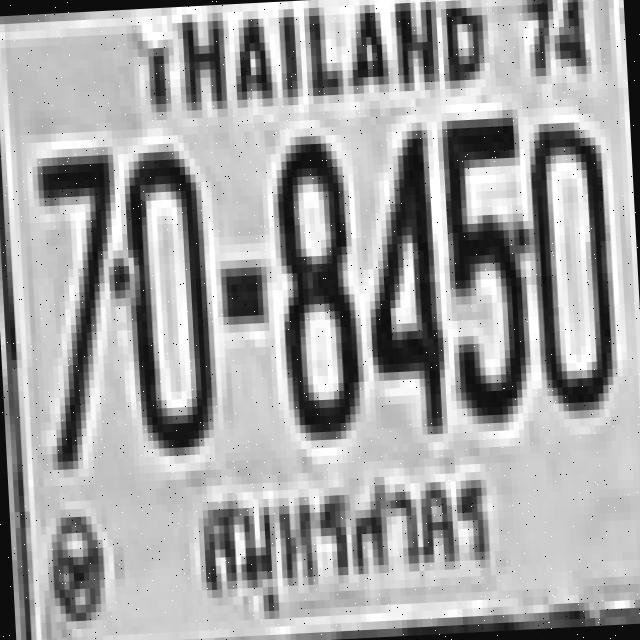0: (120, 142, 217, 450), (523, 113, 614, 405)
4: (356, 123, 443, 430)
5: (436, 110, 528, 418)
7: (32, 146, 124, 462), (32, 146, 118, 366)
8: (272, 126, 359, 434)
SamutSakhon: (182, 462, 510, 627)
